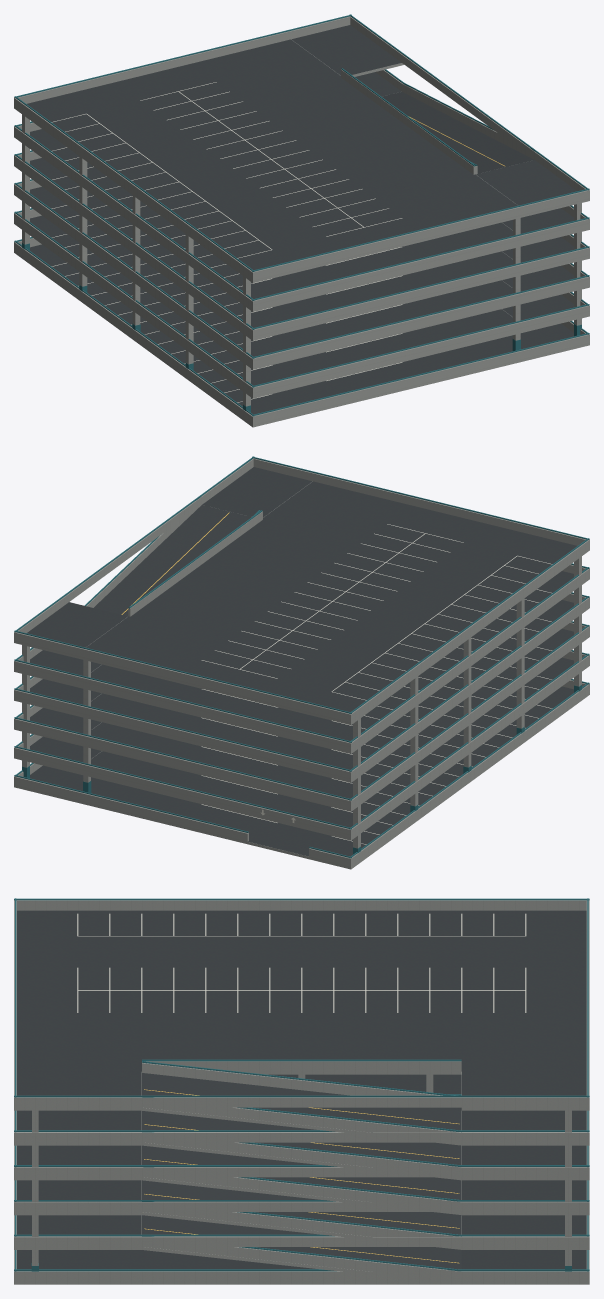
The model's file is medium_06.glb.
The picture shows the model from 3 angles, top to bottom: view 1: azimuth 30°, elevation 25°; view 2: azimuth 150°, elevation 25°; view 3: azimuth 270°, elevation 25°; orthographic projection. The views are drawn at different scales.
Visible parts, largest first — view 1: medium_06_Asphalt, medium_06_Concrete, medium_06_Teal, medium_06_Paint; view 2: medium_06_Asphalt, medium_06_Concrete, medium_06_Teal, medium_06_Paint; view 3: medium_06_Asphalt, medium_06_Concrete, medium_06_Teal, medium_06_Paint, medium_06_Yellow.
Boxes of the visible parts, box(x1,y1,x2,y2) form: medium_06_Asphalt: box(27, 25, 576, 414); medium_06_Concrete: box(14, 16, 589, 427); medium_06_Teal: box(14, 14, 589, 416); medium_06_Paint: box(51, 82, 402, 402); medium_06_Asphalt: box(27, 467, 576, 856); medium_06_Concrete: box(14, 458, 589, 869); medium_06_Teal: box(14, 456, 589, 858); medium_06_Paint: box(201, 524, 552, 844); medium_06_Asphalt: box(17, 910, 586, 1269); medium_06_Concrete: box(14, 900, 589, 1284); medium_06_Teal: box(14, 898, 589, 1271); medium_06_Paint: box(77, 913, 526, 1012); medium_06_Yellow: box(144, 1089, 459, 1263).
Bounding box in the file's own units: 44 × 19.48 × 54.02.
Materials: 6 (2 with a texture image).
